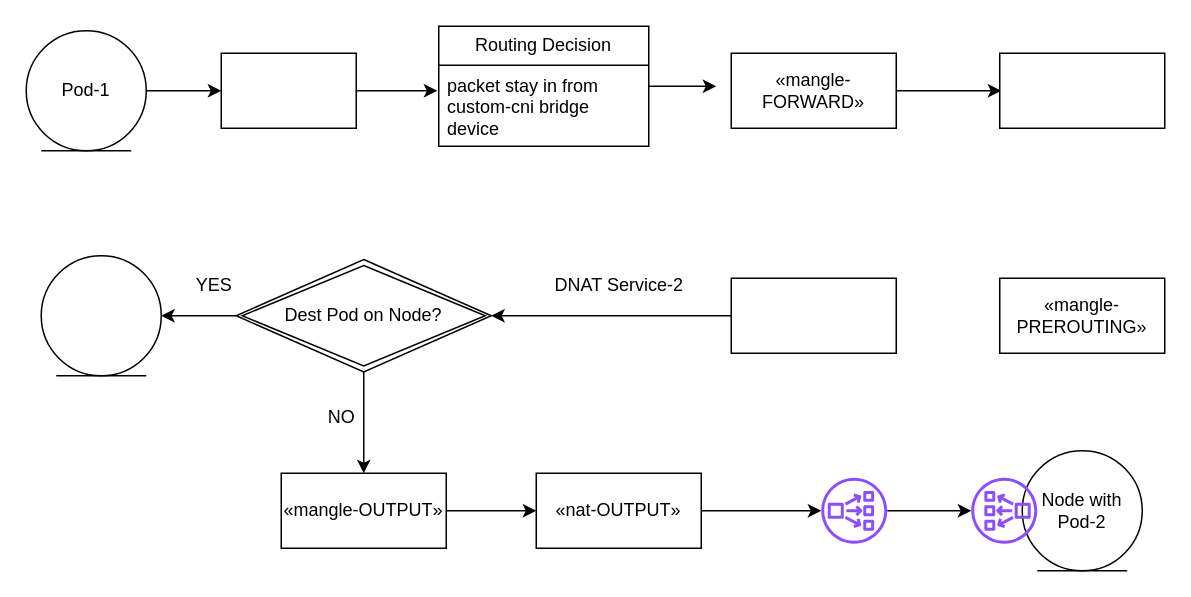
This 1191x597 diagram has some shape labels left out. The shapes that lost their labels are listed below. From the top down, each one's box as (x1, y1, x2, y2) in pixels, then its label:
(220, 52, 356, 128): «raw-OUTPUT»
(998, 52, 1165, 128): «filter-FORWARD»
(40, 254, 161, 376): Pod-2
(730, 277, 896, 353): «nat-PREROUTING»
